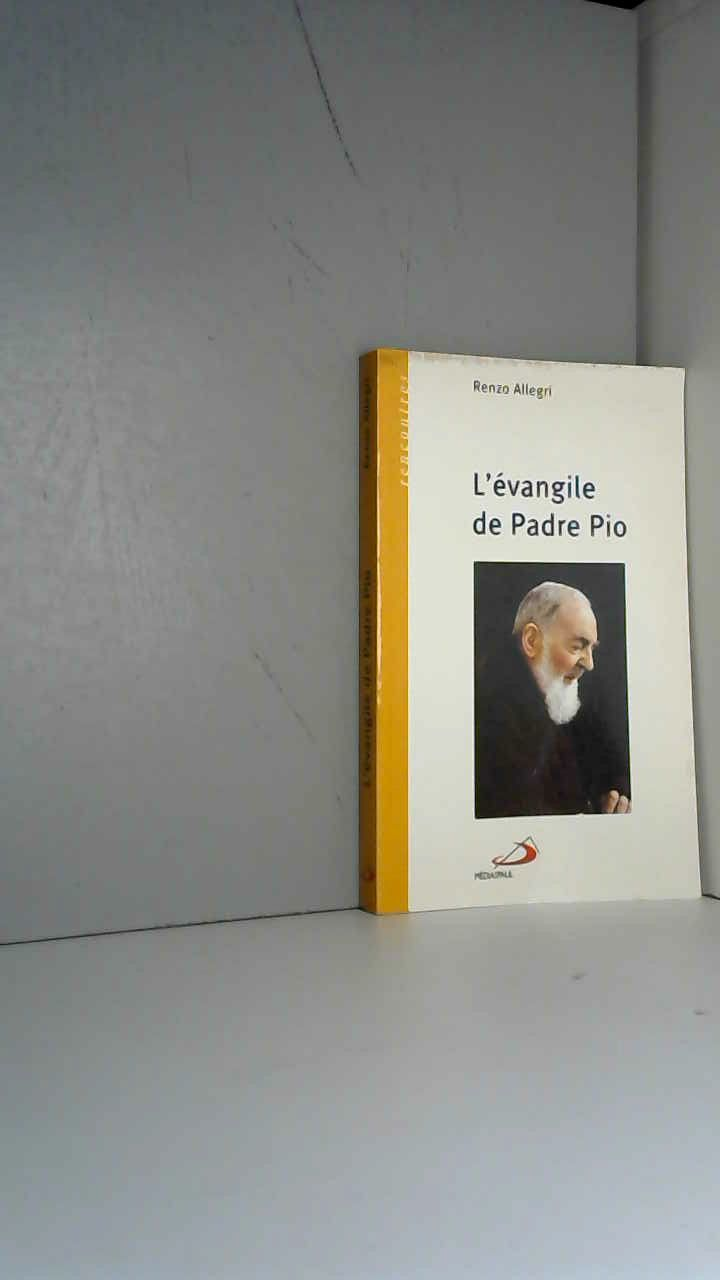book: (330, 320, 720, 938)
